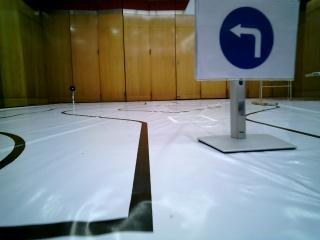left: (201, 4, 287, 76)
